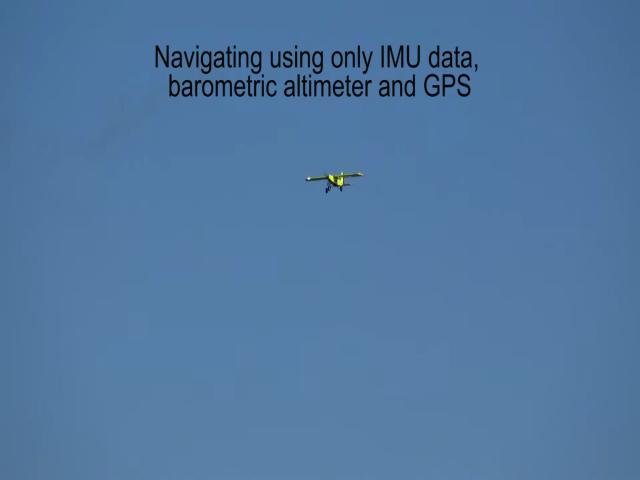plane: (306, 174, 363, 192)
